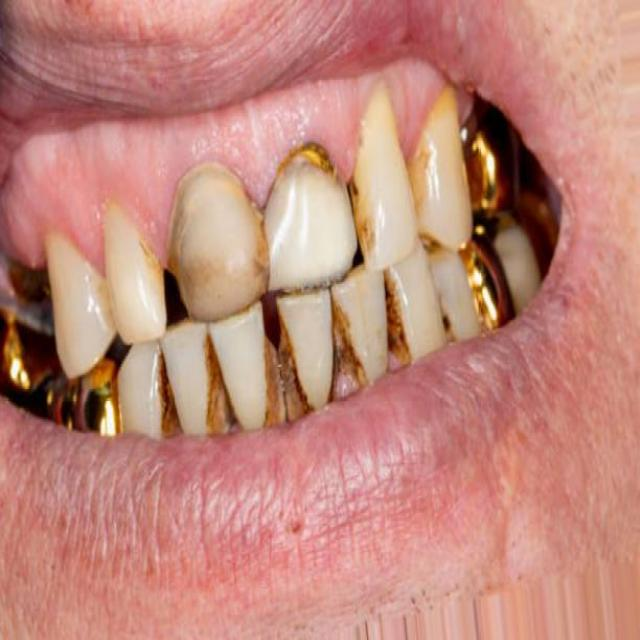caries: (285, 129, 343, 192)
